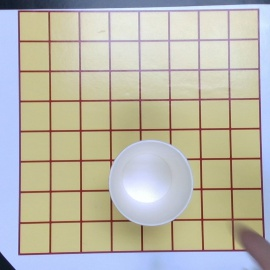cup: (107, 138, 193, 226)
